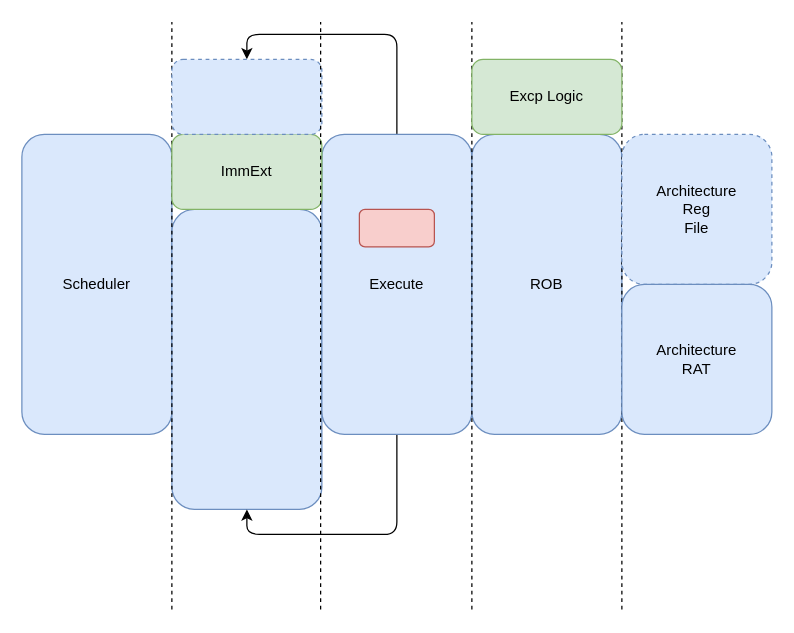
This 794x633 diagram has some shape labels left out. Here are the shapes that lost their labels. From the top down, the centre of each, then its label:
At point 246,96: "CSR".
At point 396,227: "Several cycles".
At point 246,358: "Physical Reg File".
